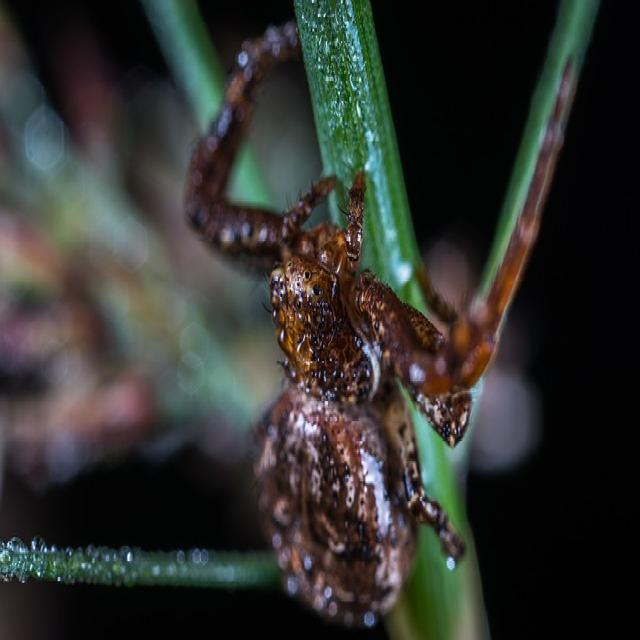spyder: (185, 25, 535, 626)
